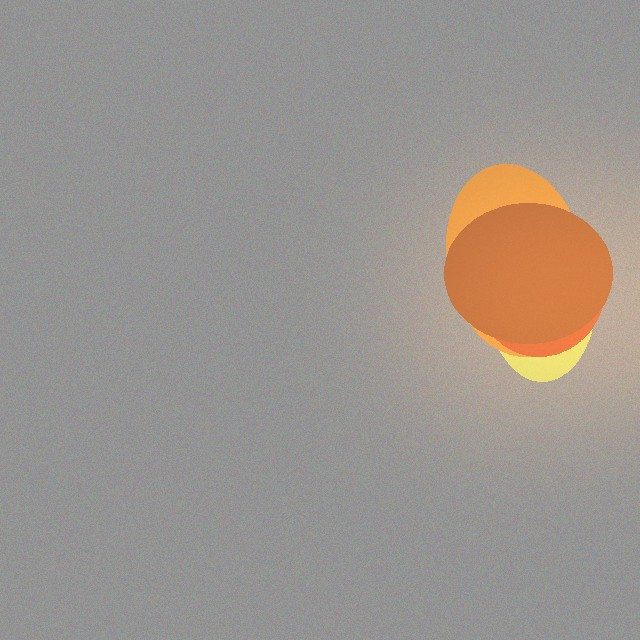fire: (458, 210, 614, 382)
